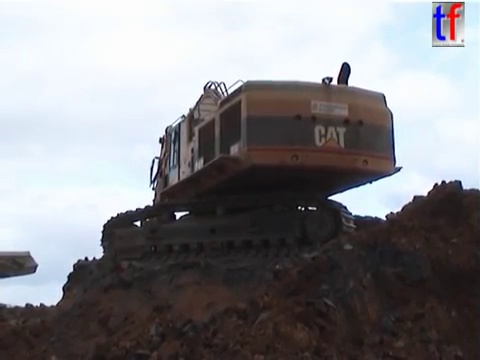excavator: (97, 58, 405, 267)
truck: (1, 248, 41, 282)
